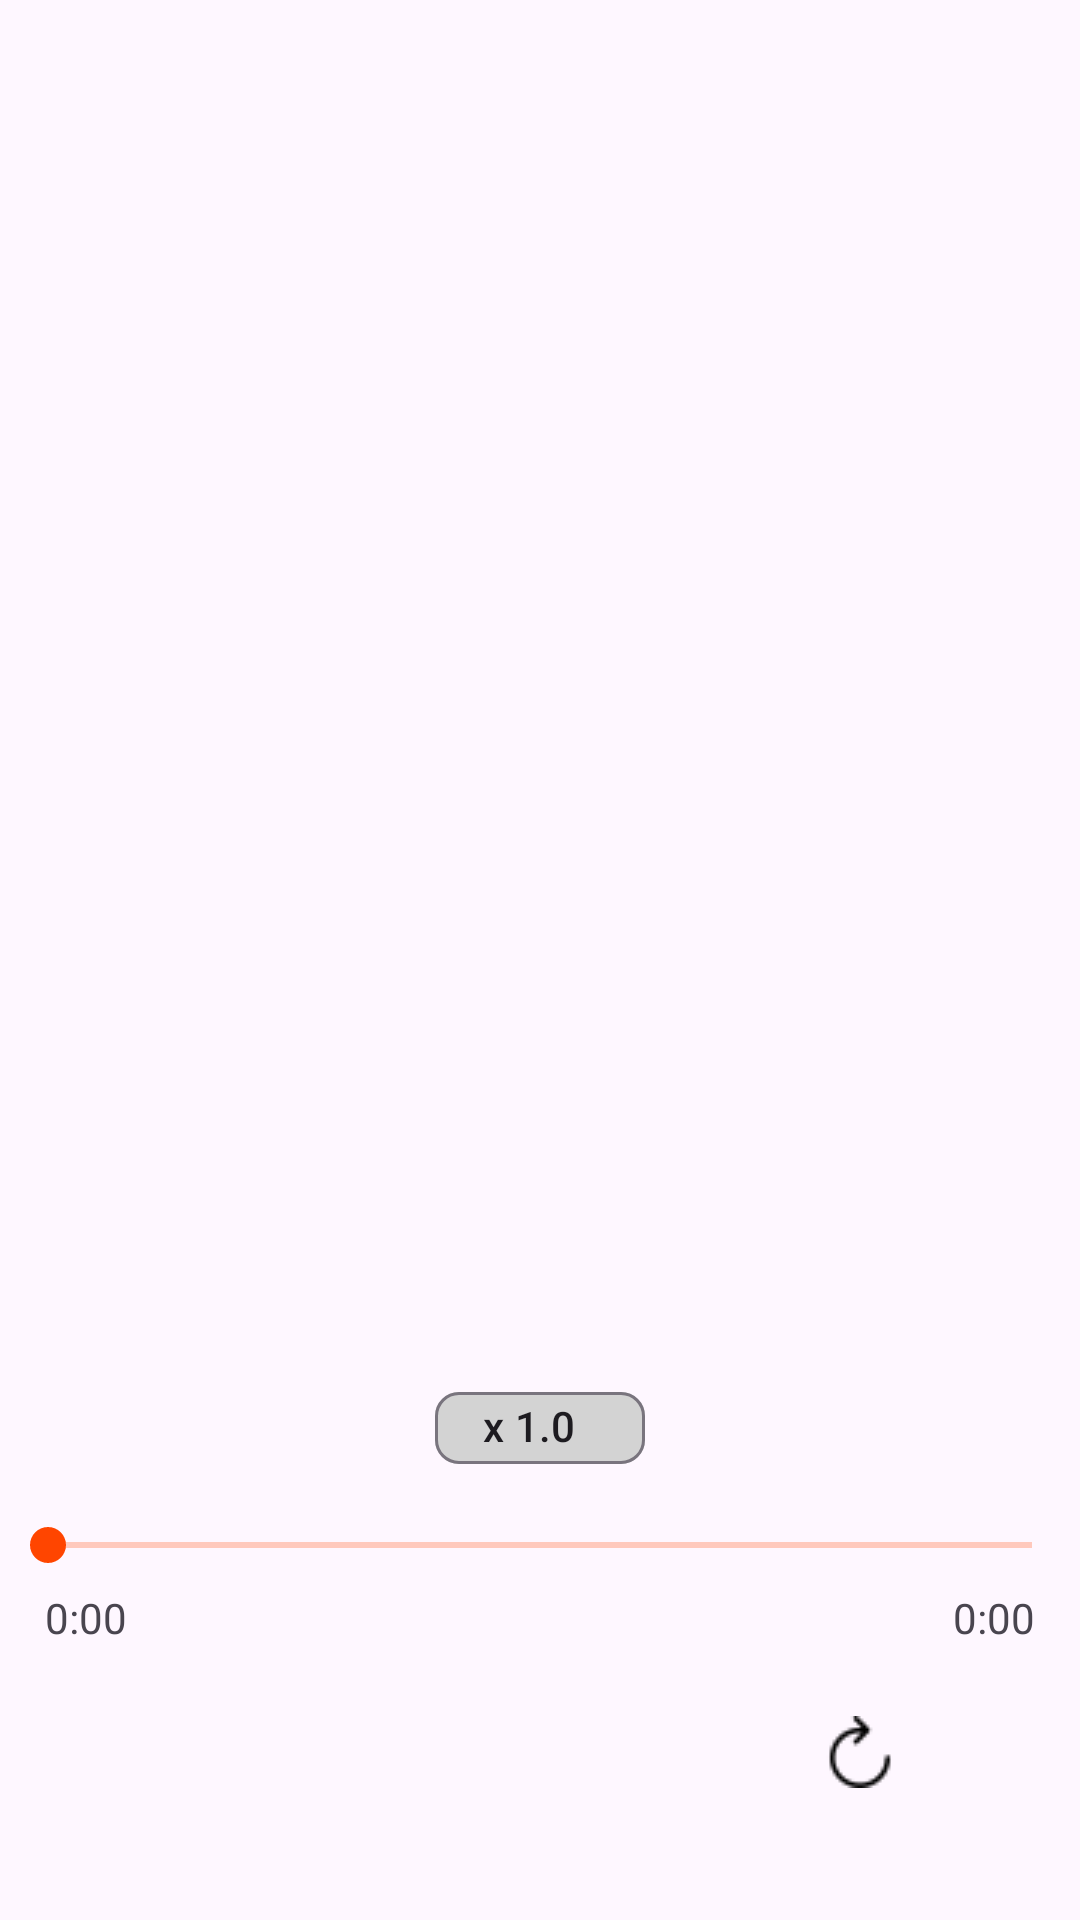

Icon click points for this 1080*1920 phone screenshot, format (x,y):
reword: (860,1752)
